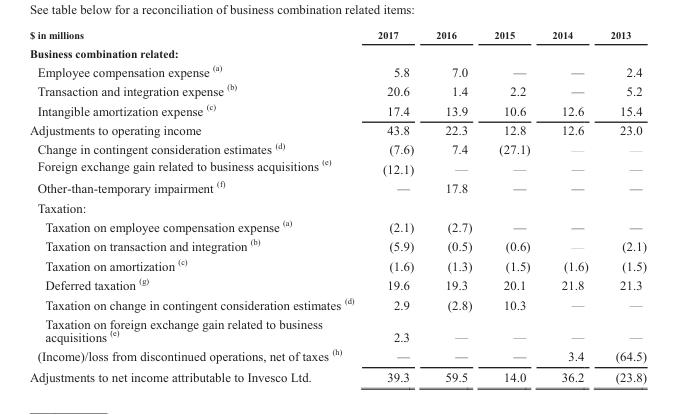table: (28, 28, 645, 383)
table column: (28, 28, 365, 383), (365, 28, 424, 383), (424, 28, 482, 383), (482, 28, 540, 383), (540, 28, 598, 383), (598, 28, 645, 383)
table column header: (28, 28, 645, 43)
table projected row header: (28, 43, 645, 61), (28, 197, 645, 215)
table row: (28, 313, 645, 345), (28, 99, 645, 120), (28, 156, 645, 177), (28, 345, 645, 366), (28, 177, 645, 197), (28, 215, 645, 235), (28, 254, 645, 274), (28, 293, 645, 313), (28, 61, 645, 80), (28, 80, 645, 99), (28, 235, 645, 254), (28, 274, 645, 293), (28, 43, 645, 61), (28, 120, 645, 138), (28, 138, 645, 156), (28, 197, 645, 215), (28, 366, 645, 383), (28, 28, 645, 43)
